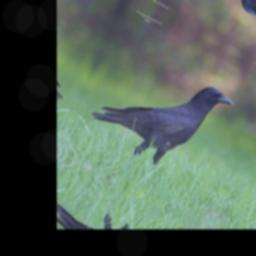Crow: (79, 39, 236, 195)
